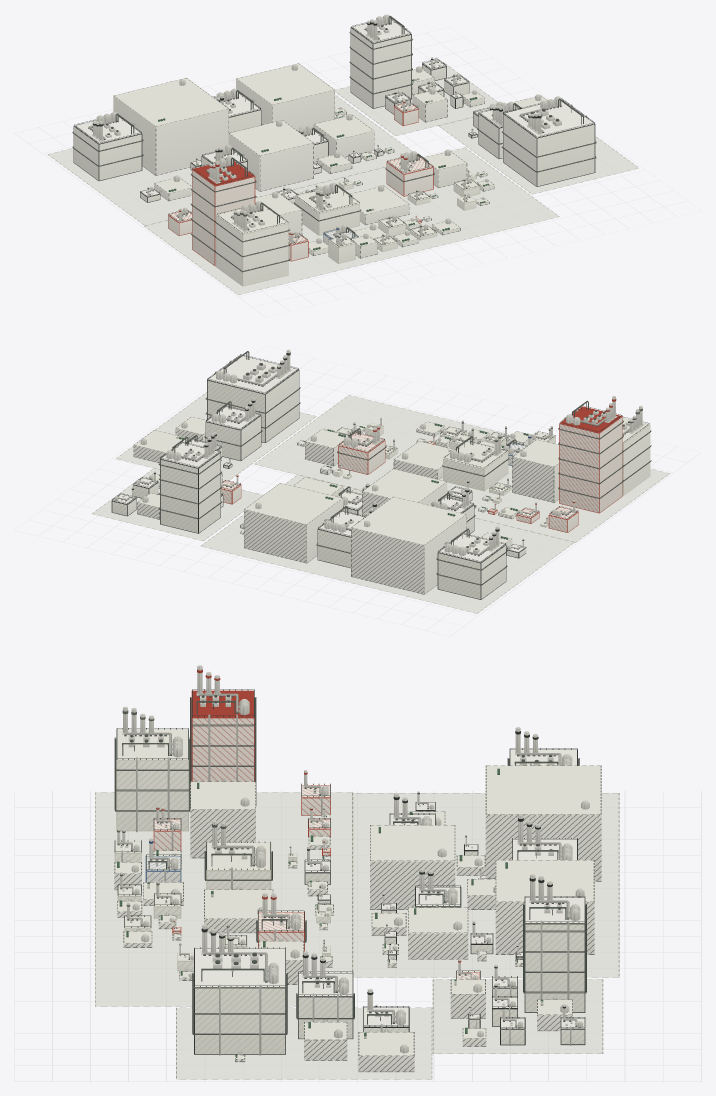
Rendered from plant.glb.
3 renders of one model, top to bottom at view 1: azimuth 30°, elevation 25°; view 2: azimuth 150°, elevation 25°; view 3: azimuth 270°, elevation 25°, orthographic. The views are drawn at different scales.
Visible parts, largest first — view 1: ground, annex-1, mass-11, mass-40, annex-2, mass-5, annex-38, mass-12, mass-1, mass-15, annex-31, annex-15 (+16 smaller); view 2: ground, annex-1, mass-12, annex-2, mass-5, mass-11, mass-1, annex-12, annex-38, mass-15, mass-10, mass-40 (+19 smaller); view 3: ground, annex-1, mass-11, mass-40, annex-38, mass-5, annex-2, mass-12, annex-12, annex-31, crown-11, crown-5 (+29 smaller).
Part boxes in pixels (x1,y1,x2,y2): ground: (39,56,673,307); annex-1: (113,78,228,175); mass-11: (503,99,595,186); mass-40: (216,205,288,286); annex-2: (236,63,334,129); mass-5: (350,18,411,108); annex-38: (228,120,313,191); mass-12: (192,161,255,266); mass-1: (73,116,142,181); mass-15: (295,187,359,235); annex-31: (313,115,374,157); annex-15: (348,185,409,225); ground: (66,362,687,626); annex-1: (351,496,466,594); mass-12: (559,406,622,513); annex-2: (244,483,342,563); mass-5: (160,442,220,533); mass-11: (207,355,299,442); mass-1: (437,534,506,599); annex-12: (512,439,559,502); annex-38: (362,468,447,516); mass-15: (443,441,508,491); mass-10: (205,406,261,460); mass-40: (622,418,650,495); ground: (14,791,701,1081); annex-1: (485,765,601,881); mass-11: (194,948,285,1054); mass-40: (116,729,188,831); annex-38: (370,825,455,909); mass-5: (524,897,585,1012); annex-2: (495,860,594,954); mass-12: (191,690,254,781); annex-12: (190,781,255,858); annex-31: (408,907,468,959); crown-11: (192,924,287,1057); crown-5: (523,874,586,1012).
Size of what is drawn, in the model's own units: 920 by 204 by 920.
Materials: 82 (7 with a texture image).
